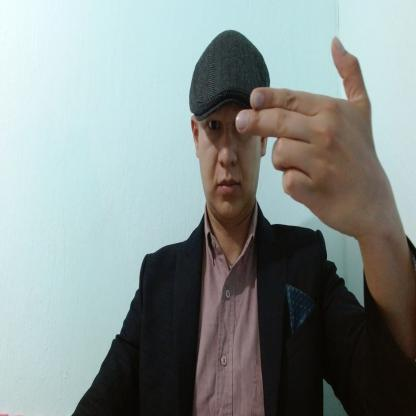H: (236, 36, 374, 240)
